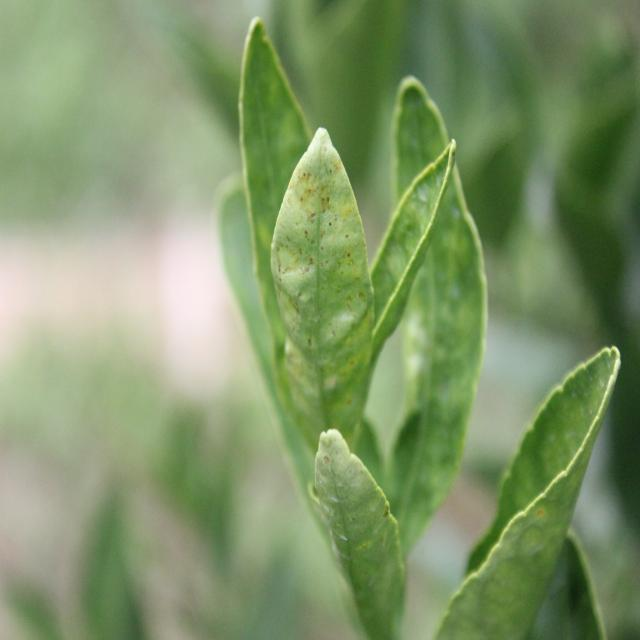canker: (273, 143, 368, 442)
